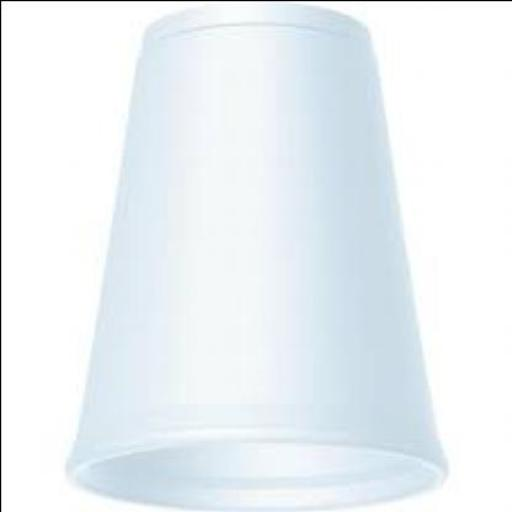paper: (69, 2, 452, 511)
